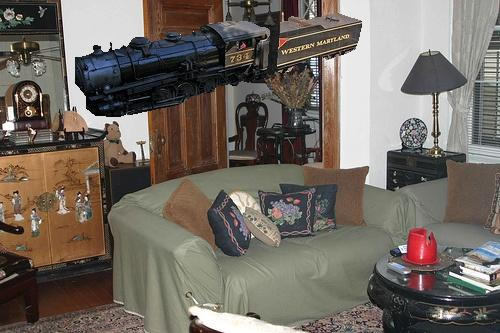tampered: (76, 14, 362, 117)
